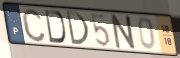0: (136, 16, 157, 52)
5: (90, 13, 112, 49)
C: (20, 7, 47, 44)
D: (64, 10, 91, 47), (44, 9, 68, 45)
N: (110, 14, 138, 52)
